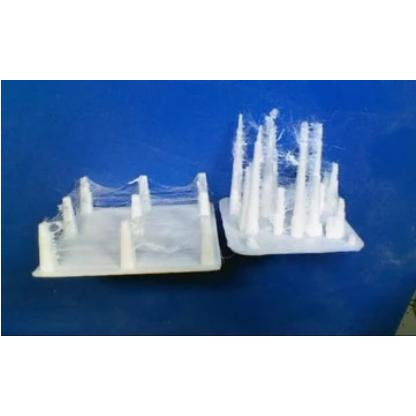fail: (274, 125, 298, 195), (87, 179, 129, 205), (148, 180, 196, 202)
